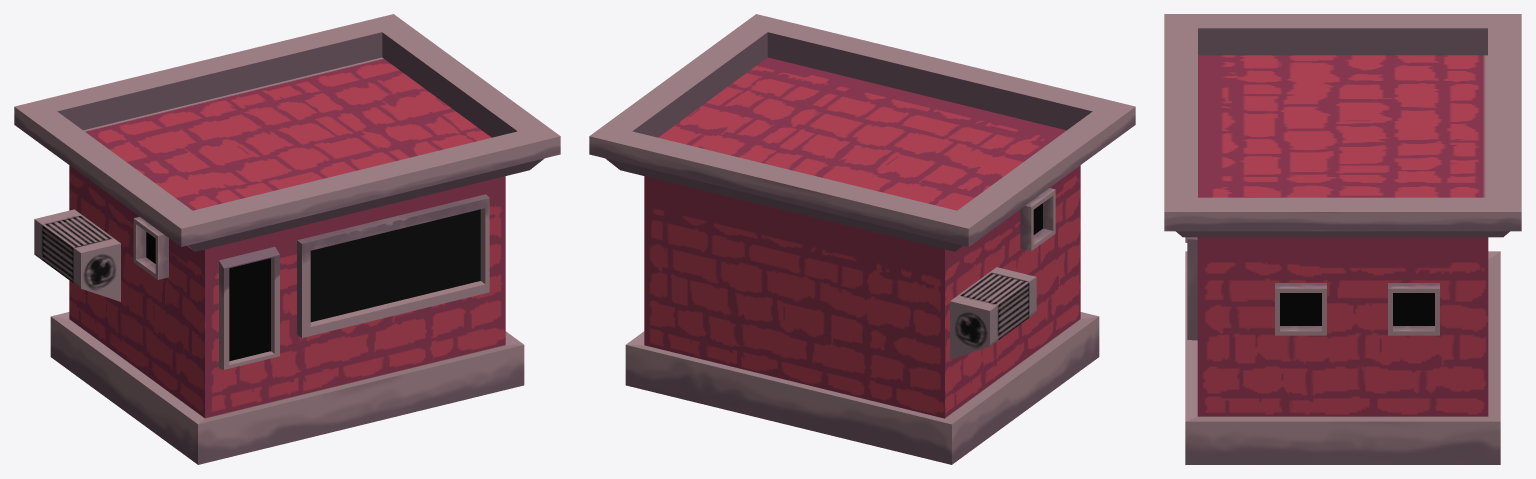
The model's file is building_a.fbx.
3 views of the same model, side by side, from view 1: azimuth 30°, elevation 25°; view 2: azimuth 150°, elevation 25°; view 3: azimuth 270°, elevation 25° (orthographic). The views are drawn at different scales.
Parts seen in each view (by area): view 1: building_a; view 2: building_a; view 3: building_a.
Boxes of the visible parts, x1,y1,x2,y2 form: building_a: [14, 14, 560, 464]; building_a: [589, 14, 1135, 464]; building_a: [1164, 14, 1521, 464].
Bounding box in the file's own units: 323 × 203 × 246.
